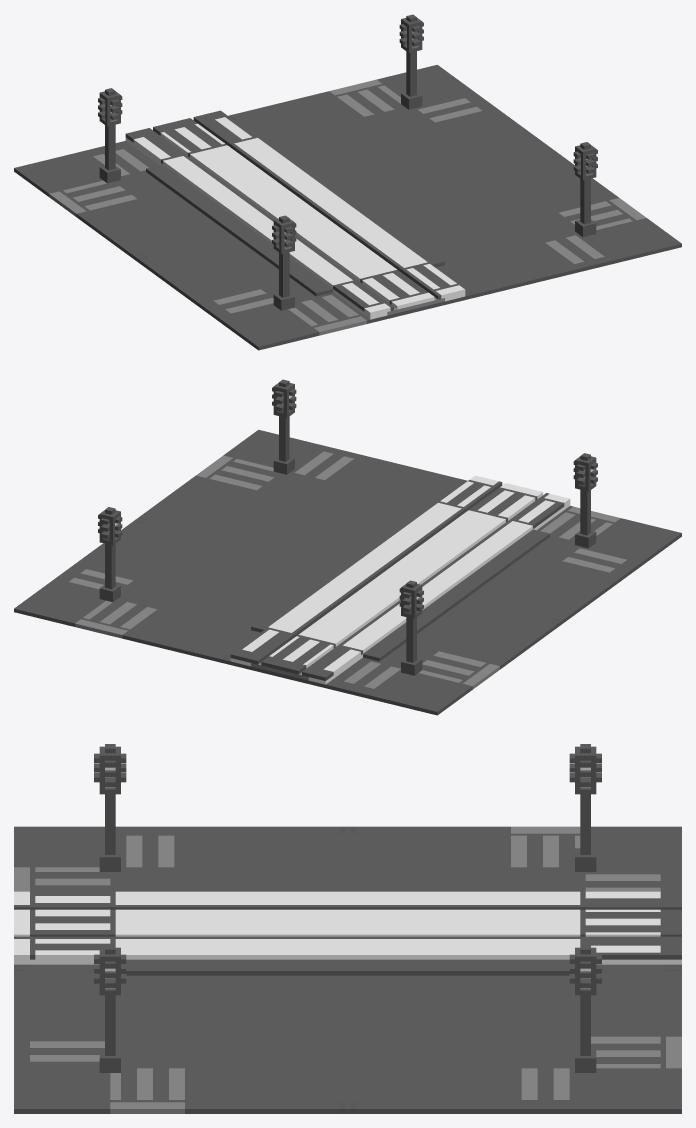
File: kfarr_bases_valencia_intersection_tram.obj
The picture shows the model from 3 angles, top to bottom: view 1: azimuth 30°, elevation 25°; view 2: azimuth 150°, elevation 25°; view 3: azimuth 270°, elevation 25°; orthographic projection. The views are drawn at different scales.
Bounding box in the file's own units: 125 × 26 × 125.
